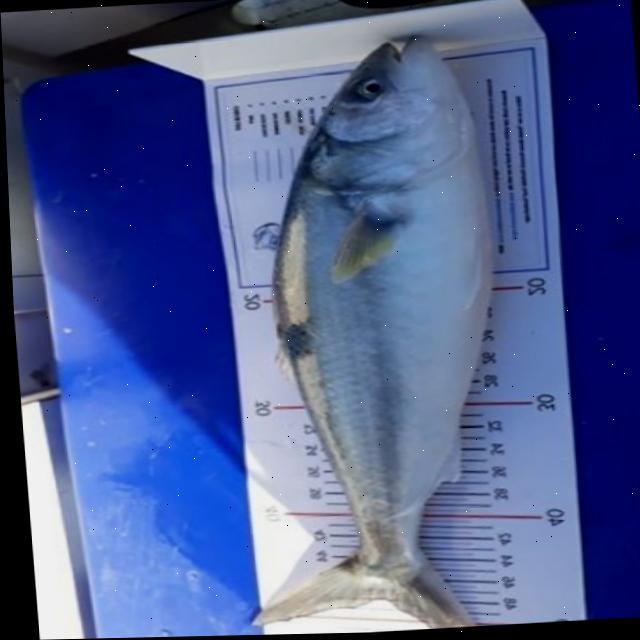Australian Salmon: (171, 16, 544, 637)
